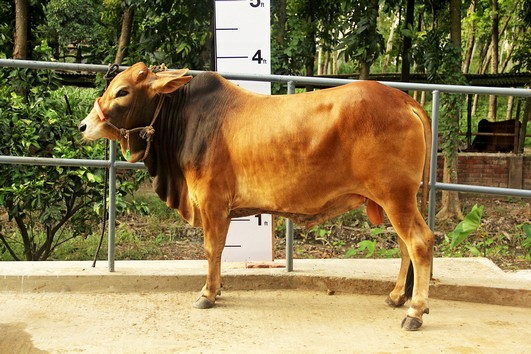cow: (71, 53, 450, 335)
